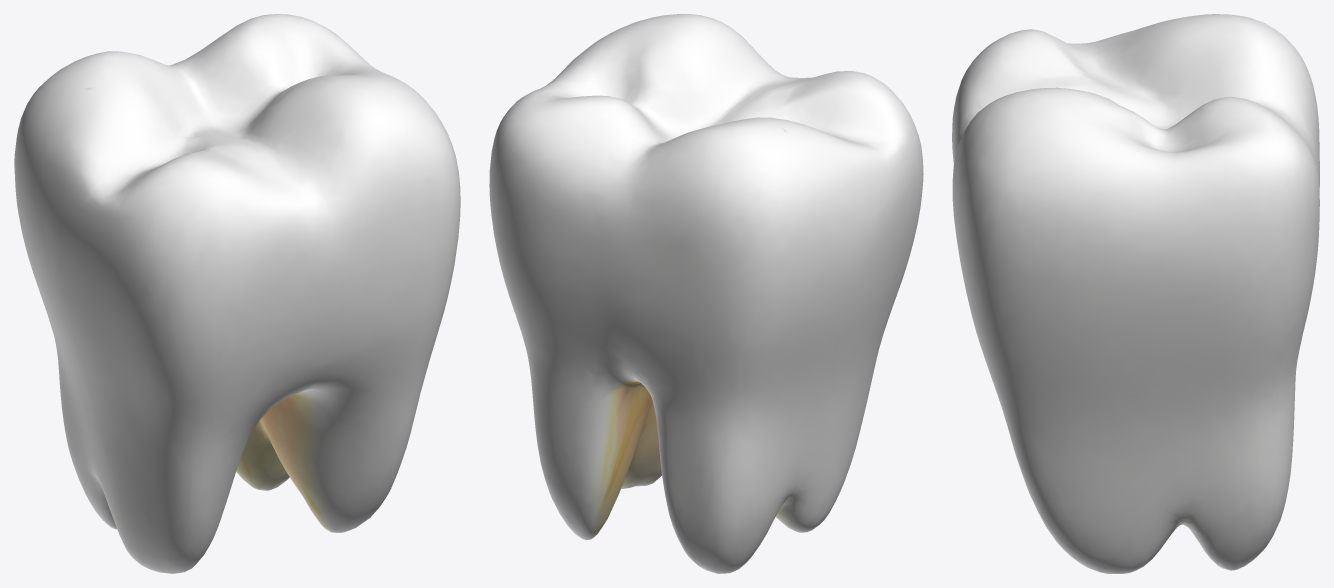
Rendered from tooth.glb.
The picture shows the model from 3 angles, left to right: view 1: azimuth 30°, elevation 25°; view 2: azimuth 150°, elevation 25°; view 3: azimuth 270°, elevation 25°; orthographic projection. The views are drawn at different scales.
Bounding box in the file's own units: 1.56 × 2 × 1.4.
Materials: 1 (1 with a texture image).
